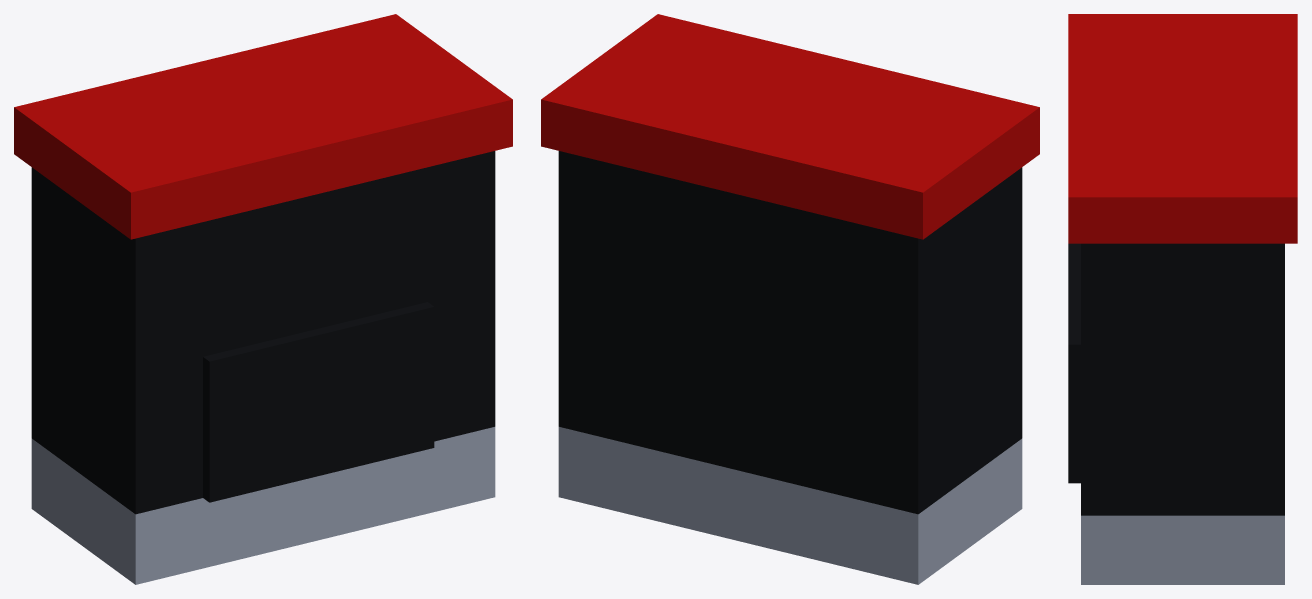
Rendered from pinsetter_back.obj.
3 renders of one model, left to right at view 1: azimuth 30°, elevation 25°; view 2: azimuth 150°, elevation 25°; view 3: azimuth 270°, elevation 25°, orthographic.
Visible parts, largest first — view 1: pinsetter_back; view 2: pinsetter_back; view 3: pinsetter_back.
Part boxes in pixels (x1=…): pinsetter_back: x1=14, y1=14, x2=512, y2=584; pinsetter_back: x1=541, y1=14, x2=1039, y2=584; pinsetter_back: x1=1068, y1=14, x2=1297, y2=584.
Bounding box in the file's own units: 1.7 × 1.7 × 0.9.
